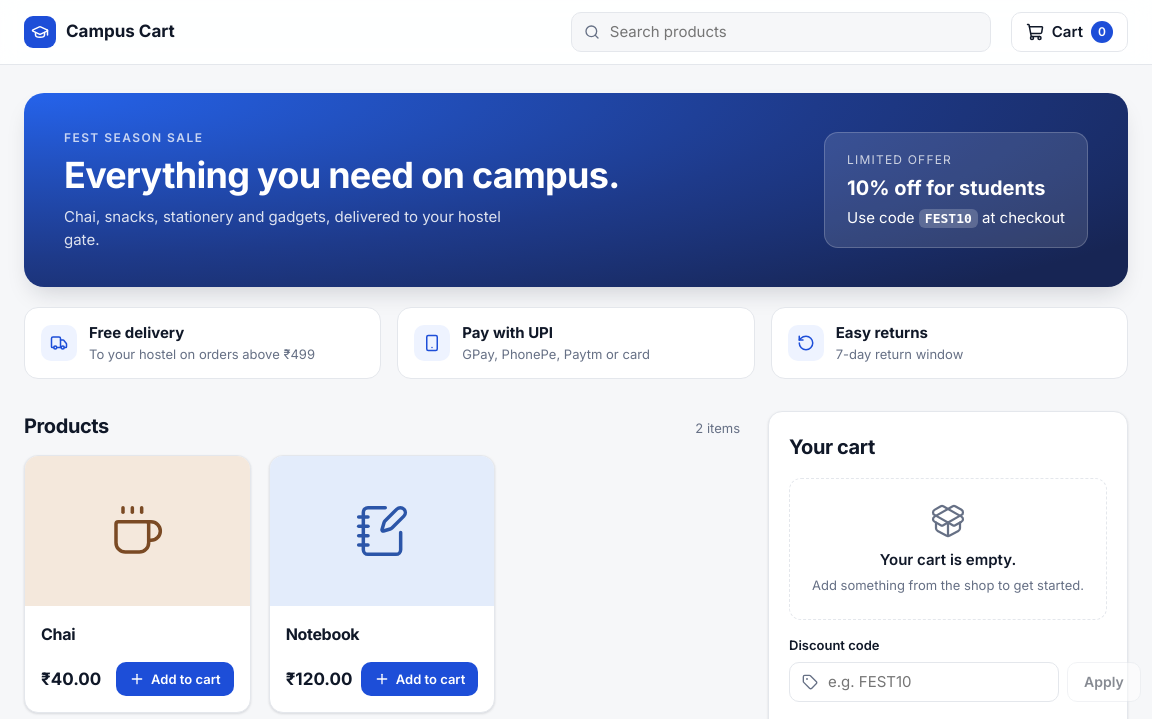
Test: App › should show the new total after adding an item
Click the button with aria-label "Add Notebook" at (420, 679), box [361,662,478,696]
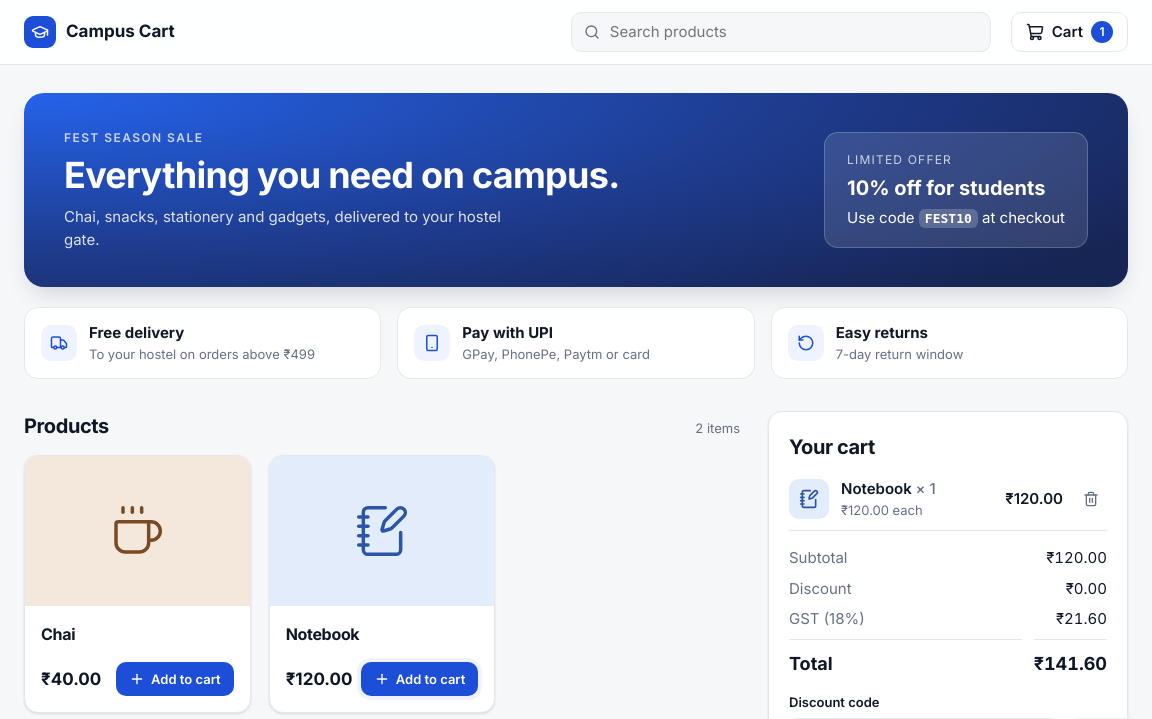
Now the text with test id "total" reads "₹141.60", box [1034,653,1107,674]
